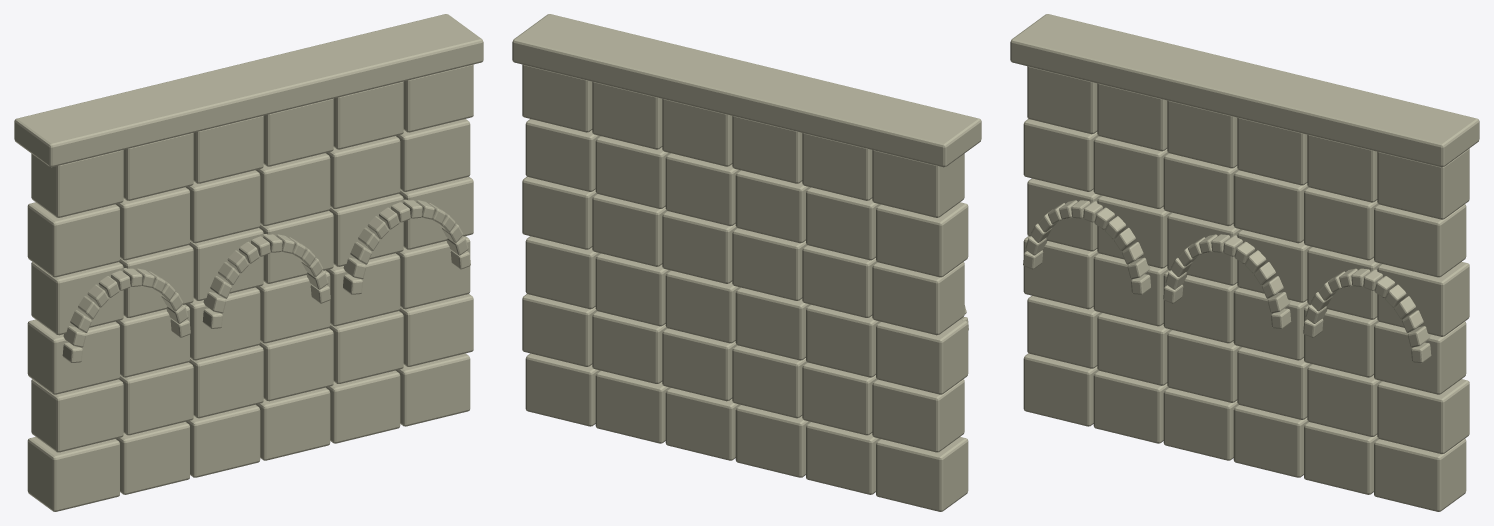
The model's file is a4_wall.glb.
3 renders of one model, left to right at view 1: azimuth 30°, elevation 25°; view 2: azimuth 150°, elevation 25°; view 3: azimuth 330°, elevation 25°, orthographic.
Parts seen in each view (by area): view 1: Body.036; view 2: Body.036; view 3: Body.036.
Part boxes in pixels (x1,y1,x2,y2): Body.036: [14, 14, 483, 511]; Body.036: [512, 14, 981, 511]; Body.036: [1010, 14, 1479, 511].
Size of the model in its own units: 3.1 by 2.55 by 0.51.
